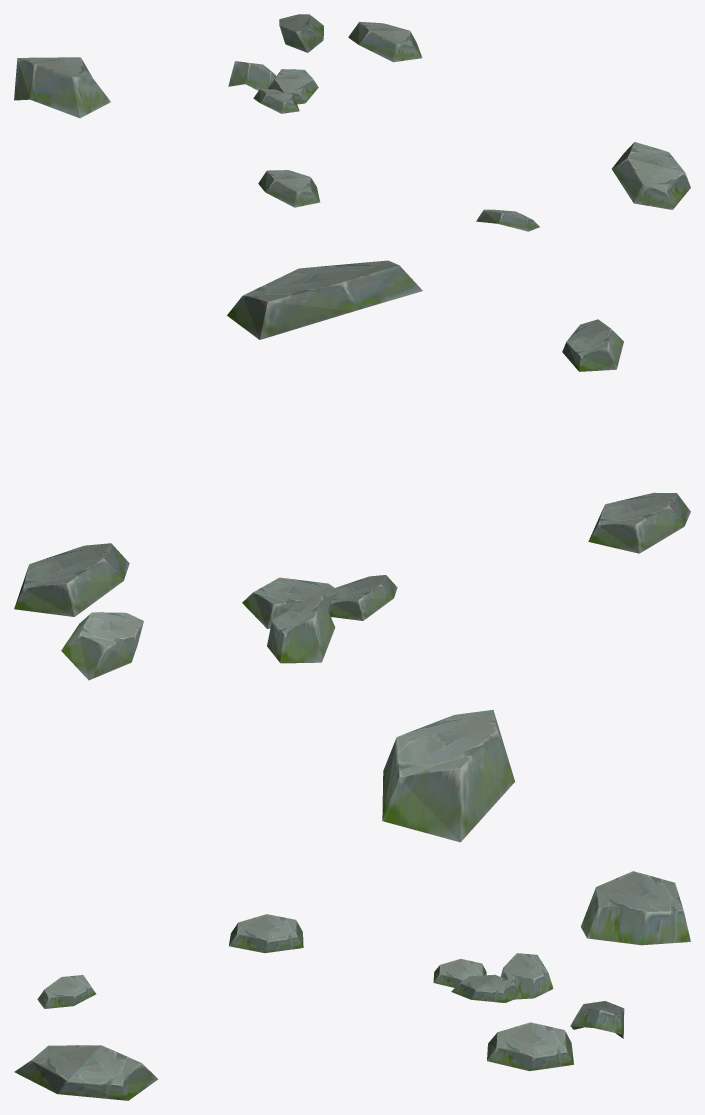
Rendered from map_xuanren_wujian3.fbx.
The picture shows the model from 3 angles, top to bottom: view 1: azimuth 30°, elevation 25°; view 2: azimuth 150°, elevation 25°; view 3: azimuth 270°, elevation 25°; orthographic projection. The views are drawn at different scales.
Visible parts, largest first — view 1: MeshBaker-mesh-mesh; view 2: MeshBaker-mesh-mesh; view 3: MeshBaker-mesh-mesh.
Boxes of the visible parts, x1,y1,x2,y2 form: MeshBaker-mesh-mesh: [14, 14, 690, 231]; MeshBaker-mesh-mesh: [14, 260, 690, 842]; MeshBaker-mesh-mesh: [14, 871, 690, 1100].
Bounding box in the file's own units: 1.7 × 0.228 × 2.3.
